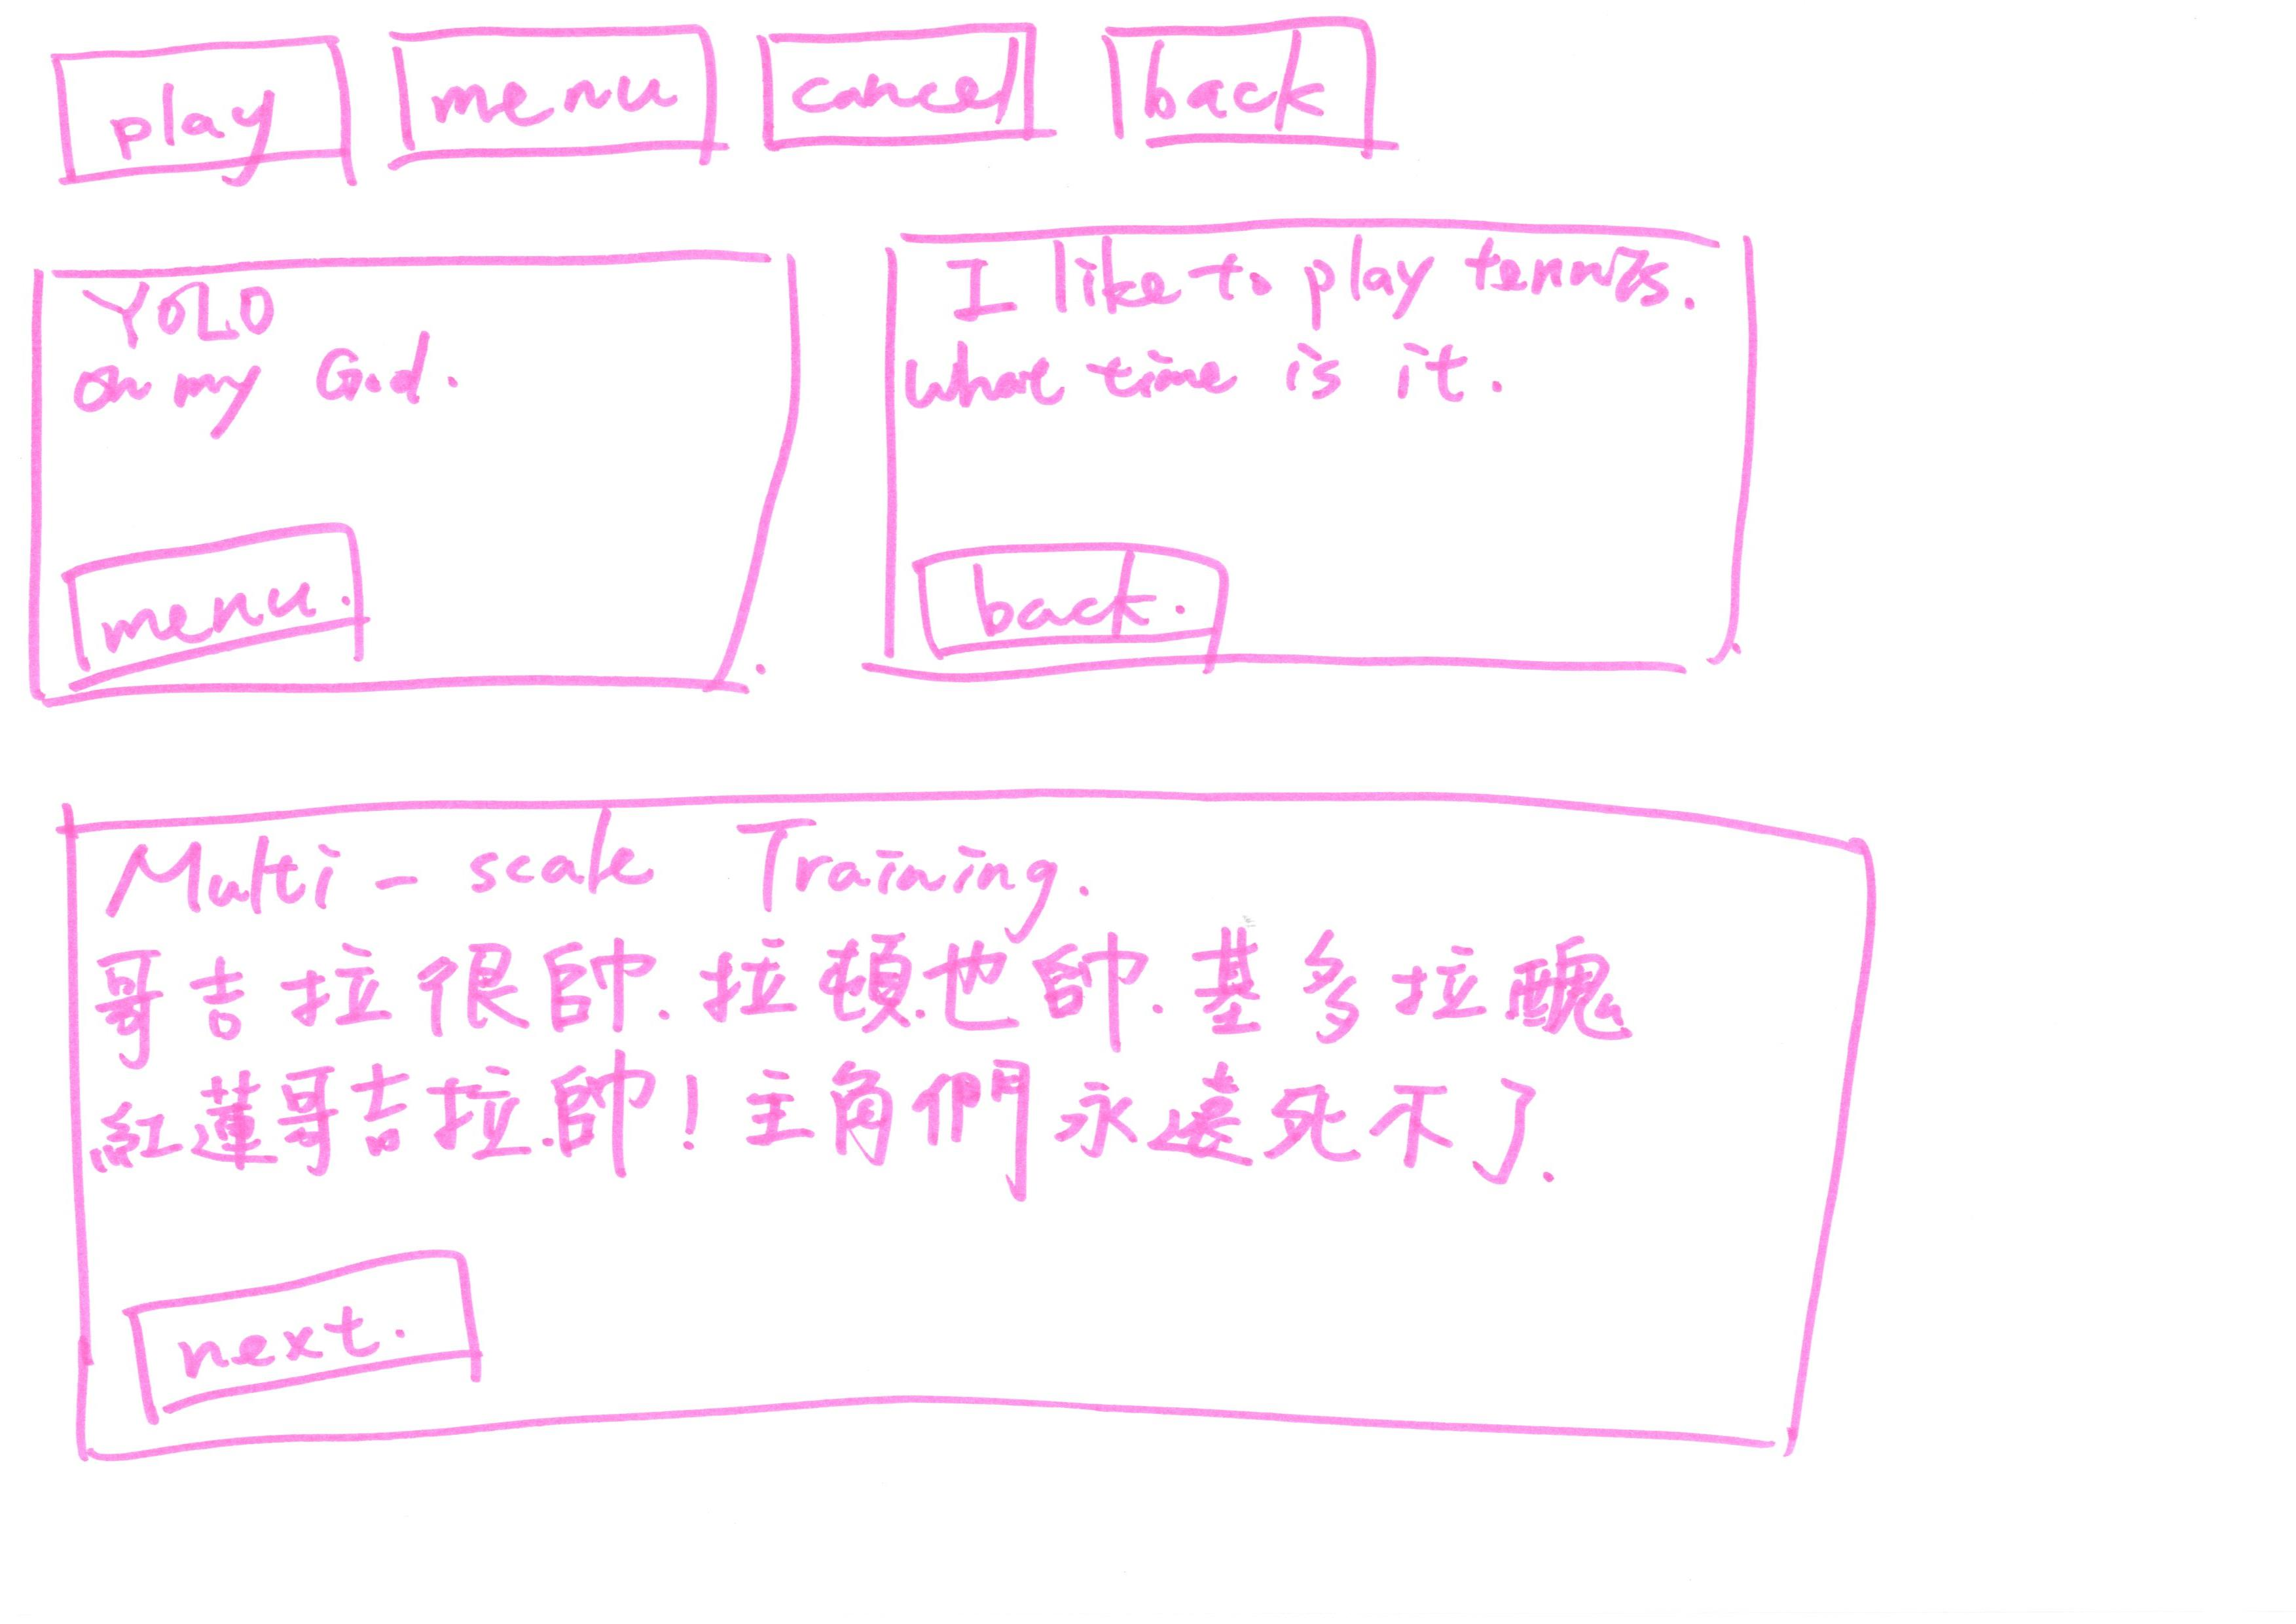back: (1072, 0, 1401, 181), (907, 520, 1246, 675)
cancel: (747, 5, 1065, 165)
double: (863, 209, 1774, 698), (14, 239, 812, 728)
menu: (376, 12, 738, 183), (54, 510, 401, 677)
next: (104, 1237, 538, 1424)
play: (42, 28, 359, 197)
row: (0, 758, 2131, 1513), (0, 190, 2083, 719), (0, 5, 2078, 188)
single: (23, 780, 1920, 1506)
small-title: (113, 826, 1067, 916), (942, 255, 1668, 318), (88, 271, 280, 344)
text: (107, 937, 1640, 1204), (907, 327, 1521, 431), (86, 344, 482, 418)
